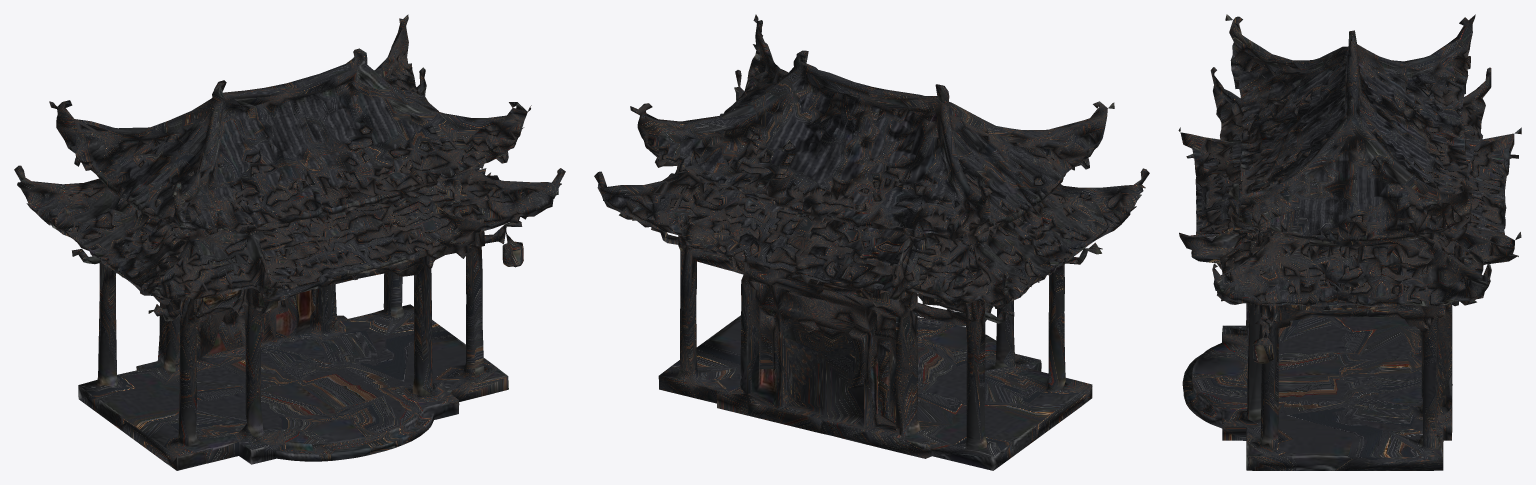
Rendered from ironcrownHall.aed6bfb1.glb.
3 views of the same model, side by side, from view 1: azimuth 30°, elevation 25°; view 2: azimuth 150°, elevation 25°; view 3: azimuth 270°, elevation 25° (orthographic).
Size of the model in its own units: 1.9 by 1.44 by 1.38.
1 material, 1 textured.
